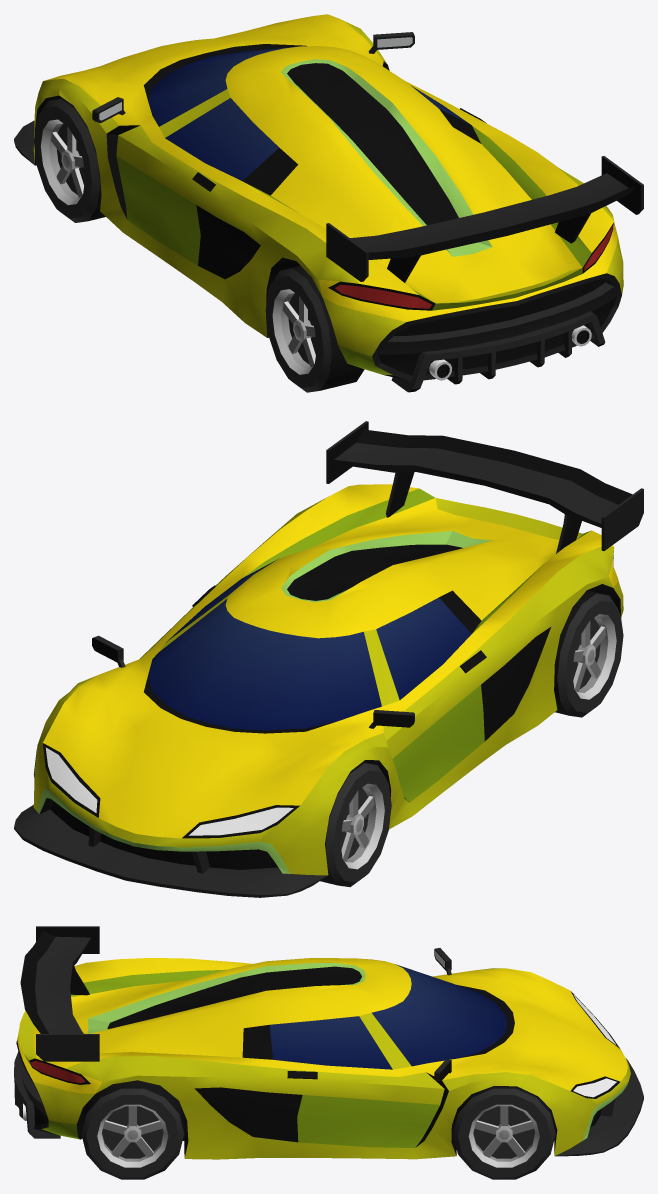
The model's file is Car_25.fbx.
The picture shows the model from 3 angles, top to bottom: view 1: azimuth 30°, elevation 25°; view 2: azimuth 150°, elevation 25°; view 3: azimuth 270°, elevation 25°; orthographic projection. The views are drawn at different scales.
Parts seen in each view (by area): view 1: Car_25, Car_25_Tire.002, Car_25_Tire.003; view 2: Car_25, Car_25_Tire.002, Car_25_Tire.003; view 3: Car_25, Car_25_Tire, Car_25_Tire.001.
Part boxes in pixels (x1,y1,x2,y2): Car_25: (14, 14, 643, 392); Car_25_Tire.002: (265, 265, 364, 392); Car_25_Tire.003: (34, 97, 105, 222); Car_25: (14, 421, 643, 897); Car_25_Tire.002: (554, 590, 623, 717); Car_25_Tire.003: (320, 761, 391, 887); Car_25: (14, 926, 643, 1159); Car_25_Tire: (81, 1080, 184, 1179); Car_25_Tire.001: (452, 1086, 555, 1179).
Bounding box in the file's own units: 2.12 × 1.17 × 4.48.
